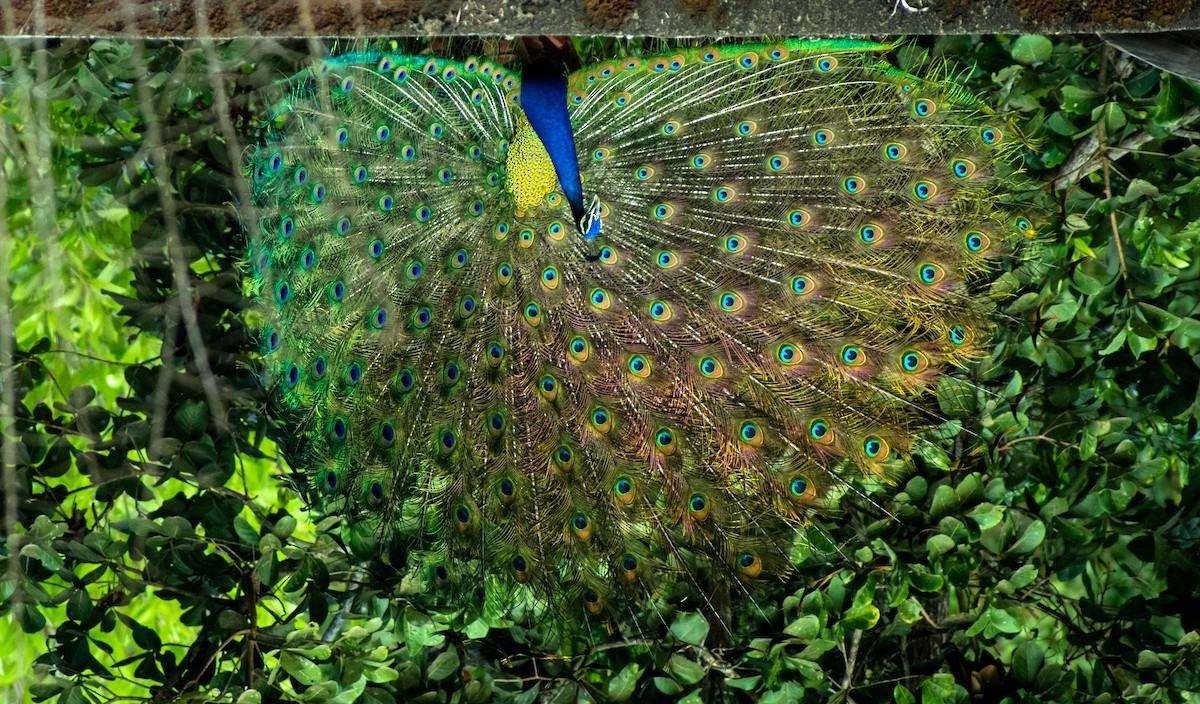peacock: (188, 18, 1081, 596)
